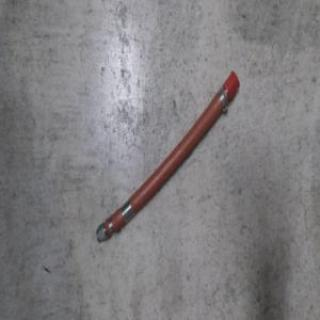Hosetrack_idkeyframe: (93, 67, 242, 244)
